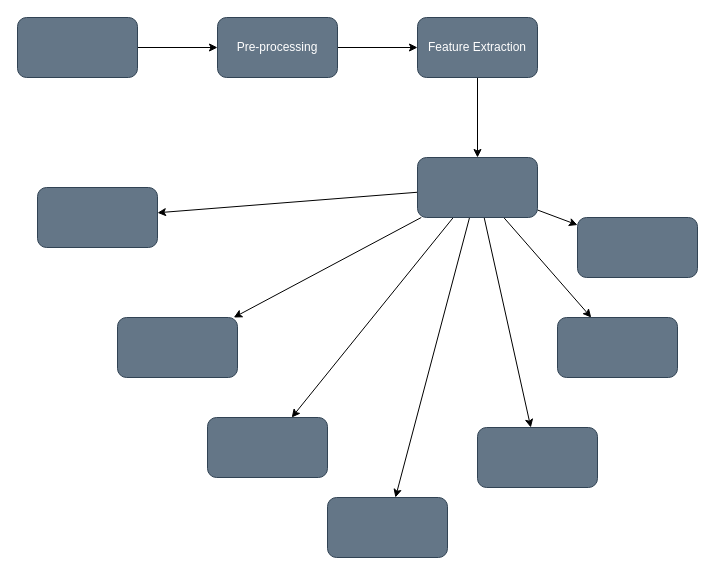
Some shapes in this 715 by 575 pixel diagram are drawn without their labels. Here are the shapes that lost their labels. From the top down, the centre of each, then its label:
point (77, 47): Input face image
point (477, 187): Classification
